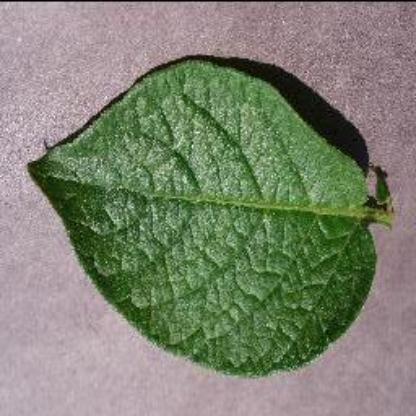Healthy-plant: (27, 53, 401, 378)
